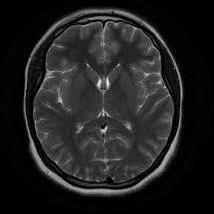Normal_Brain: (1, 20, 197, 209)
